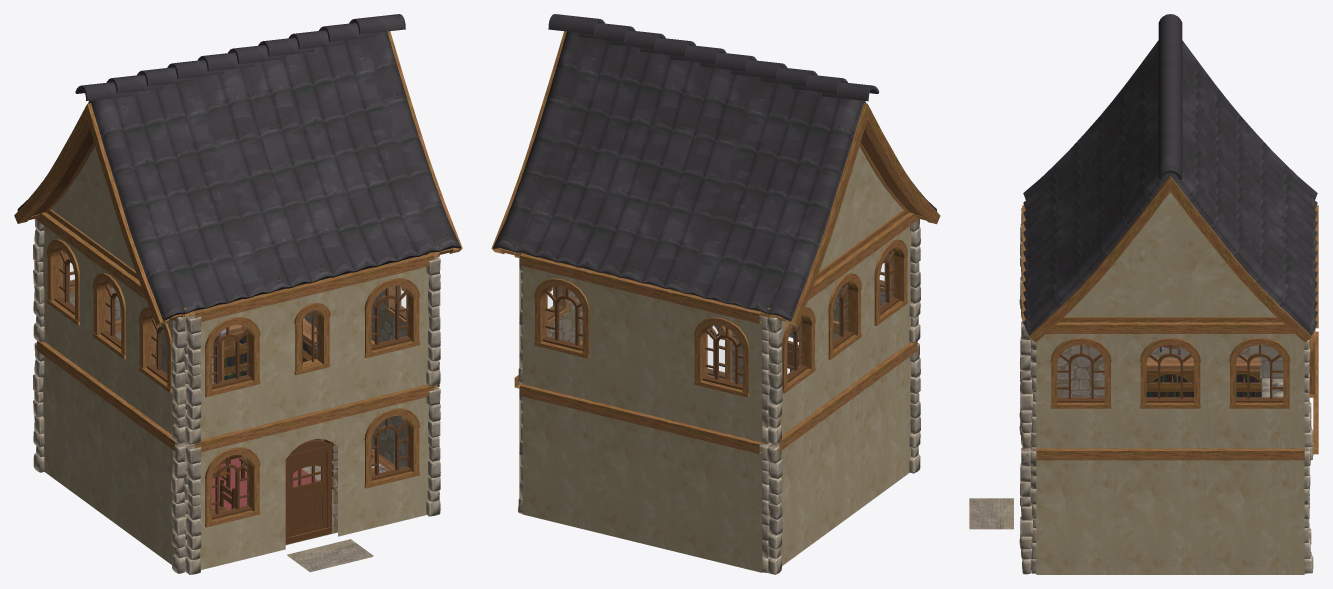
Rendered from Library.glb.
The picture shows the model from 3 angles, left to right: view 1: azimuth 30°, elevation 25°; view 2: azimuth 150°, elevation 25°; view 3: azimuth 270°, elevation 25°; orthographic projection. The views are drawn at different scales.
Visible parts, largest first — view 1: Roof_RoundTiles_6x6.001, Wall_UnevenBrick_Window_Thin_Round.004, Wall_UnevenBrick_Window_Wide_Round.009, Wall_UnevenBrick_Window_Wide_Round.007, Wall_UnevenBrick_Straight.014, Wall_UnevenBrick_Straight.015, Wall_UnevenBrick_Window_Wide_Round.008, Wall_UnevenBrick_Window_Wide_Round.006, Wall_UnevenBrick_Door_Round.003, Wall_UnevenBrick_Straight.013, Roof_Front_Brick6.004, Door_1_Round.004 (+22 smaller); view 2: Roof_RoundTiles_6x6.001, Wall_UnevenBrick_Straight.009, Wall_UnevenBrick_Straight.011, Wall_UnevenBrick_Straight.010, Wall_UnevenBrick_Straight.012, Wall_UnevenBrick_Window_Wide_Round.010, Wall_UnevenBrick_Window_Wide_Round.011, Wall_UnevenBrick_Straight.014, Wall_UnevenBrick_Straight.013, Wall_UnevenBrick_Straight.015, Roof_Front_Brick6.004, Wall_UnevenBrick_Window_Wide_Round.013 (+13 smaller); view 3: Roof_RoundTiles_6x6.001, Roof_Front_Brick6.005, Wall_UnevenBrick_Straight.016, Wall_UnevenBrick_Straight.018, Wall_UnevenBrick_Straight.017, Wall_UnevenBrick_Window_Wide_Round.016, Wall_UnevenBrick_Window_Wide_Round.015, Wall_UnevenBrick_Window_Wide_Round.017, Window_Wide_Round1.023, Window_Wide_Round1.022, Window_Wide_Round1.024, Corner_Exterior_Brick.007 (+8 smaller).
Part boxes in pixels (<box>): Roof_RoundTiles_6x6.001: <box>14,14,462,325</box>; Wall_UnevenBrick_Window_Thin_Round.004: <box>272,273,354,422</box>; Wall_UnevenBrick_Window_Wide_Round.009: <box>352,253,434,402</box>; Wall_UnevenBrick_Window_Wide_Round.007: <box>352,384,434,532</box>; Wall_UnevenBrick_Straight.014: <box>83,373,133,536</box>; Wall_UnevenBrick_Straight.015: <box>37,341,87,502</box>; Wall_UnevenBrick_Window_Wide_Round.008: <box>192,292,274,439</box>; Wall_UnevenBrick_Window_Wide_Round.006: <box>195,422,274,569</box>; Wall_UnevenBrick_Door_Round.003: <box>272,403,354,552</box>; Wall_UnevenBrick_Straight.013: <box>129,407,186,564</box>; Roof_Front_Brick6.004: <box>47,146,194,317</box>; Door_1_Round.004: <box>285,439,332,544</box>; Roof_RoundTiles_6x6.001: <box>491,14,940,325</box>; Wall_UnevenBrick_Straight.009: <box>679,423,766,572</box>; Wall_UnevenBrick_Straight.011: <box>520,384,602,533</box>; Wall_UnevenBrick_Straight.010: <box>600,403,682,553</box>; Wall_UnevenBrick_Straight.012: <box>600,273,682,422</box>; Wall_UnevenBrick_Window_Wide_Round.010: <box>679,293,762,442</box>; Wall_UnevenBrick_Window_Wide_Round.011: <box>520,253,602,403</box>; Wall_UnevenBrick_Straight.014: <box>814,373,871,537</box>; Wall_UnevenBrick_Straight.013: <box>860,341,917,503</box>; Wall_UnevenBrick_Straight.015: <box>767,407,825,565</box>; Roof_Front_Brick6.004: <box>760,146,907,317</box>; Wall_UnevenBrick_Window_Wide_Round.013: <box>821,243,871,406</box>; Roof_RoundTiles_6x6.001: <box>1023,14,1317,342</box>; Roof_Front_Brick6.005: <box>1028,192,1312,322</box>; Wall_UnevenBrick_Straight.016: <box>1036,448,1125,574</box>; Wall_UnevenBrick_Straight.018: <box>1215,448,1304,574</box>; Wall_UnevenBrick_Straight.017: <box>1125,448,1214,574</box>; Wall_UnevenBrick_Window_Wide_Round.016: <box>1125,322,1214,448</box>; Wall_UnevenBrick_Window_Wide_Round.015: <box>1036,322,1125,448</box>; Wall_UnevenBrick_Window_Wide_Round.017: <box>1215,322,1304,448</box>; Window_Wide_Round1.023: <box>1140,337,1200,408</box>; Window_Wide_Round1.022: <box>1050,337,1111,408</box>; Window_Wide_Round1.024: <box>1229,337,1290,408</box>; Corner_Exterior_Brick.007: <box>1019,444,1036,574</box>.
Size of the model in its own units: 8.03 by 10.57 by 7.81.
49 materials, 45 textured.
